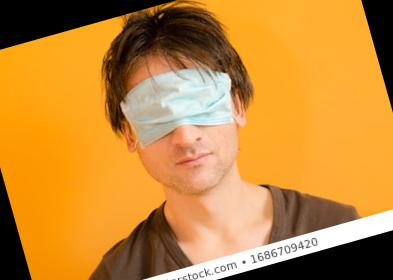mask_weared_incorrect: (119, 58, 258, 208)
